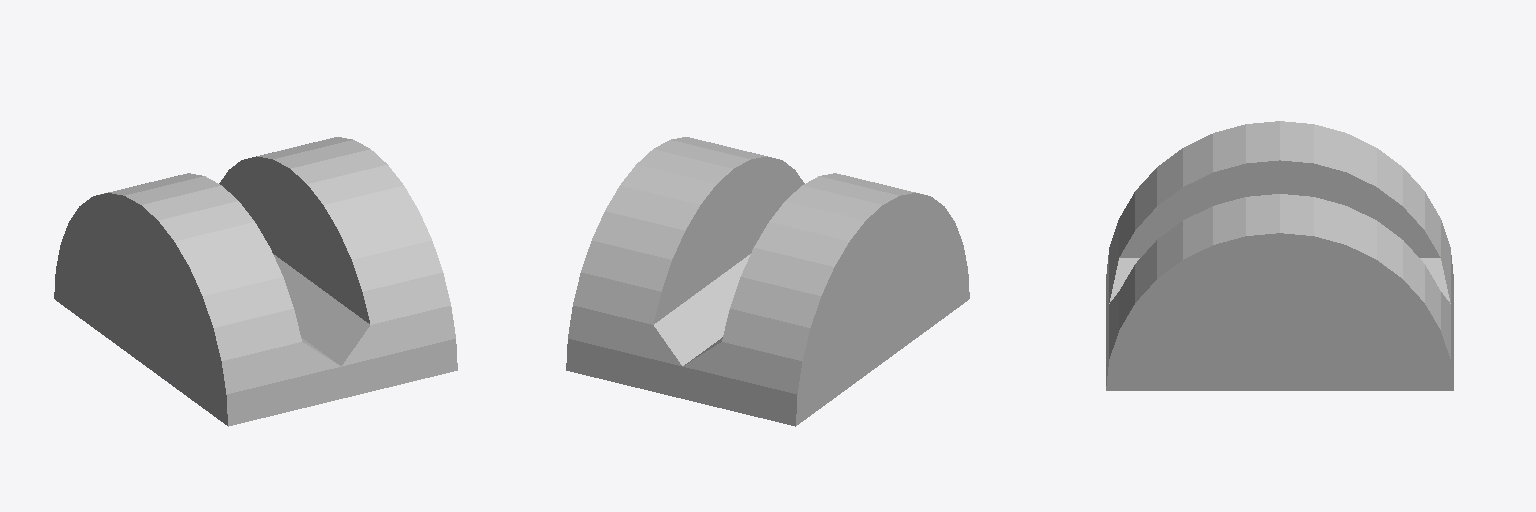
The model's file is LeverBase.obj.
The picture shows the model from 3 angles: view 1: azimuth 30°, elevation 25°; view 2: azimuth 150°, elevation 25°; view 3: azimuth 270°, elevation 25°; orthographic projection.
Parts seen in each view (by area): view 1: LeverBase_Cylinder; view 2: LeverBase_Cylinder; view 3: LeverBase_Cylinder.
Boxes of the visible parts, x1=… form: LeverBase_Cylinder: x1=54, y1=137, x2=457, y2=426; LeverBase_Cylinder: x1=566, y1=137, x2=969, y2=426; LeverBase_Cylinder: x1=1106, y1=121, x2=1453, y2=390.
Size of the model in its own units: 1.52 by 1 by 2.